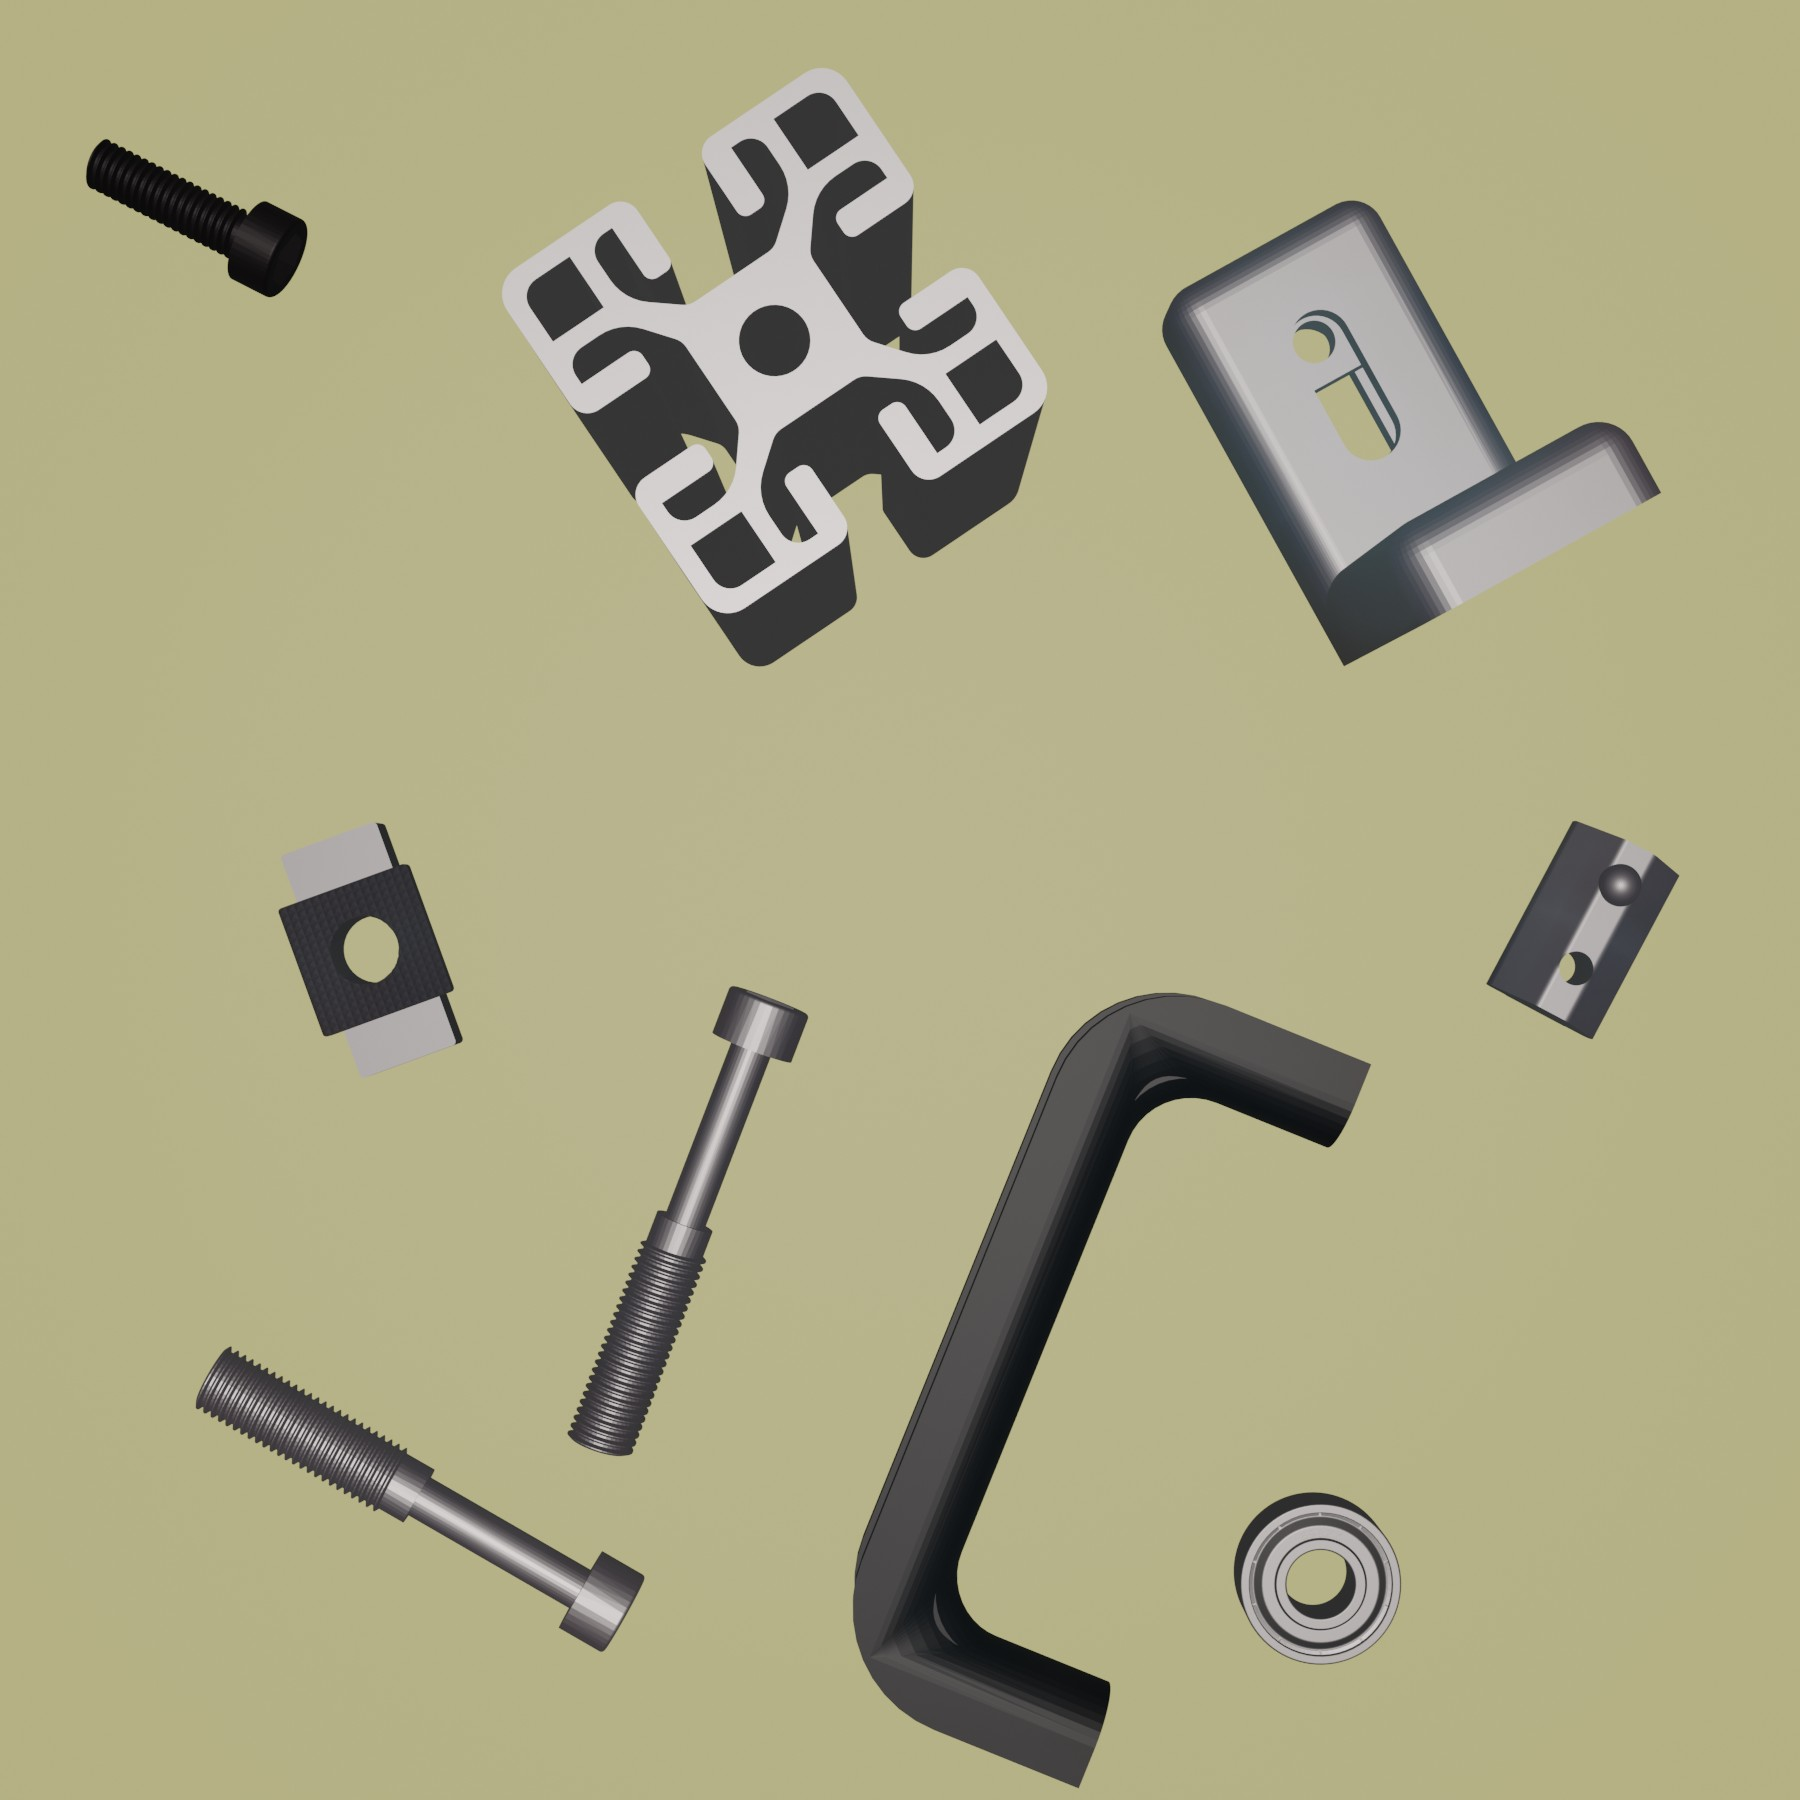Aluminium Extension: (499, 63, 1053, 669)
Ball Bearing: (1230, 1492, 1406, 1668)
Multiwinkel: (1159, 198, 1662, 668)
Pull Handle: (851, 986, 1375, 1787)
Shoulder Socket Head Cap Screw: (191, 1342, 648, 1655), (565, 981, 813, 1459)
Socket Head Cap Screw: (82, 135, 308, 302)
T Nut Square: (274, 814, 470, 1081)
T Spring Nut: (1485, 819, 1681, 1043)
